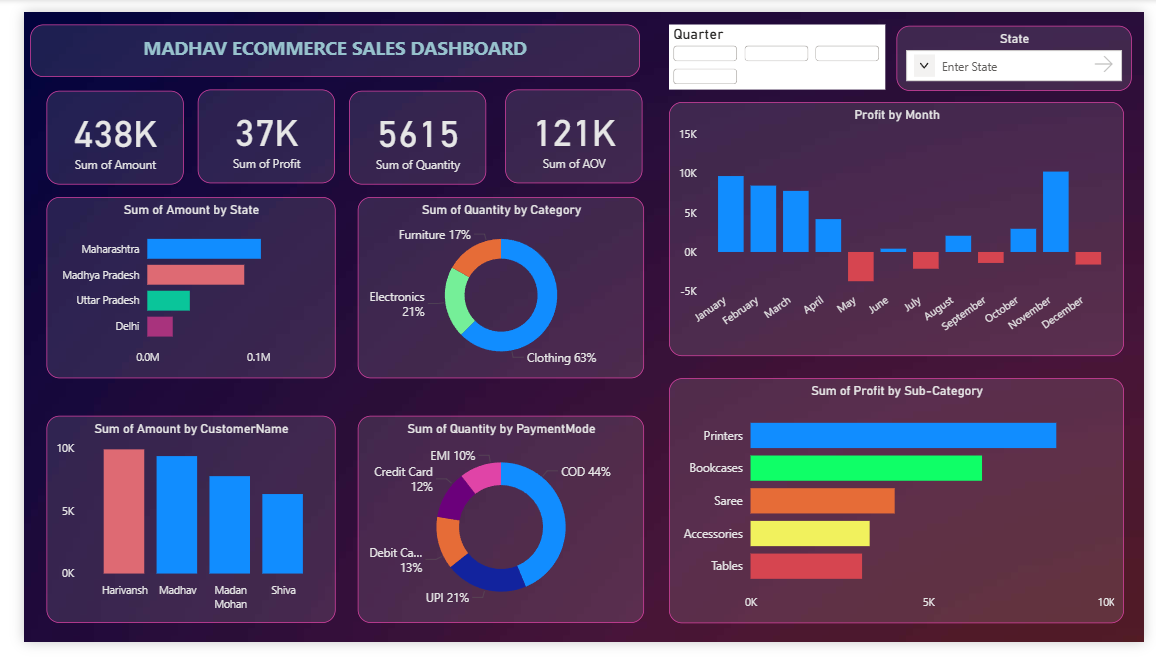

The dashboard page shown, as its layout file describes it:
{"tool":"powerbi","page":{"name":"Page 1","canvas":[1280,720],"ordinal":0},"visuals":[{"type":"textbox","box":[7.1,14.3,697.1,60],"z":0},{"type":"columnChart","title":"Profit by Month","fields":{"Category":["Orders.Order Date.Variation.Date Hierarchy.Month"],"Y":["Sum(Details.Profit)"]},"box":[737.1,102.9,520,290],"z":1000},{"type":"barChart","fields":{"Category":["Details.Sub-Category"],"Y":["Sum(Details.Profit)"]},"box":[737.1,418.6,520,280],"z":2000},{"type":"donutChart","fields":{"Category":["Details.Category"],"Y":["Sum(Details.Quantity)"]},"box":[381.4,211.4,327.1,207.1],"z":3000},{"type":"donutChart","fields":{"Category":["Details.PaymentMode","Details.Category"],"Y":["Sum(Details.Quantity)"]},"box":[381.4,461.4,327.1,237.1],"z":4000},{"type":"card","fields":{"Values":["Sum(Details.Amount)"]},"box":[25.7,90,157.1,107.1],"z":5000},{"type":"card","fields":{"Values":["Sum(Details.Profit)"]},"box":[198.6,88.6,157.1,107.1],"z":6000},{"type":"card","fields":{"Values":["Sum(Details.Quantity)"]},"box":[371.4,90,157.1,107.1],"z":7000},{"type":"card","fields":{"Values":["Sum(Details.AOV)"]},"box":[550,88.6,157.1,107.1],"z":8000},{"type":"barChart","fields":{"Category":["Orders.State"],"Y":["Sum(Details.Amount)"]},"box":[25.7,211.4,330,207.1],"z":9000},{"type":"columnChart","fields":{"Category":["Orders.CustomerName"],"Y":["Sum(Details.Amount)"]},"box":[25.7,461.4,330,237.1],"z":10000},{"type":"advancedSlicerVisual","fields":{"Values":["Orders.Order Date.Variation.Date Hierarchy.Quarter"]},"box":[737.1,14.3,247.1,74.3],"z":11000},{"type":"textSlicer","fields":{"Values":["Orders.State"]},"box":[997.1,15.7,268.6,74.3],"z":11001}]}

Visuals, with their boxes in screenshot pixels (x1, y1, x2, y2), scaled from the page's 1280x720 canvas onto the 1156x660 screenshot:
textbox: [6,13,636,68]
"Profit by Month" columnChart: [666,94,1135,360]
barChart - Details.Sub-Category x Sum(Details.Profit): [666,384,1135,640]
donutChart - Details.Category x Sum(Details.Quantity): [344,194,640,384]
donutChart - Details.PaymentMode x Details.Category: [344,423,640,640]
card - Sum(Details.Amount): [23,82,165,181]
card - Sum(Details.Profit): [179,81,321,179]
card - Sum(Details.Quantity): [335,82,477,181]
card - Sum(Details.AOV): [497,81,639,179]
barChart - Orders.State x Sum(Details.Amount): [23,194,321,384]
columnChart - Orders.CustomerName x Sum(Details.Amount): [23,423,321,640]
advancedSlicerVisual - Orders.Order Date.Variation.Date Hierarchy.Quarter: [666,13,889,81]
textSlicer - Orders.State: [901,14,1143,82]
